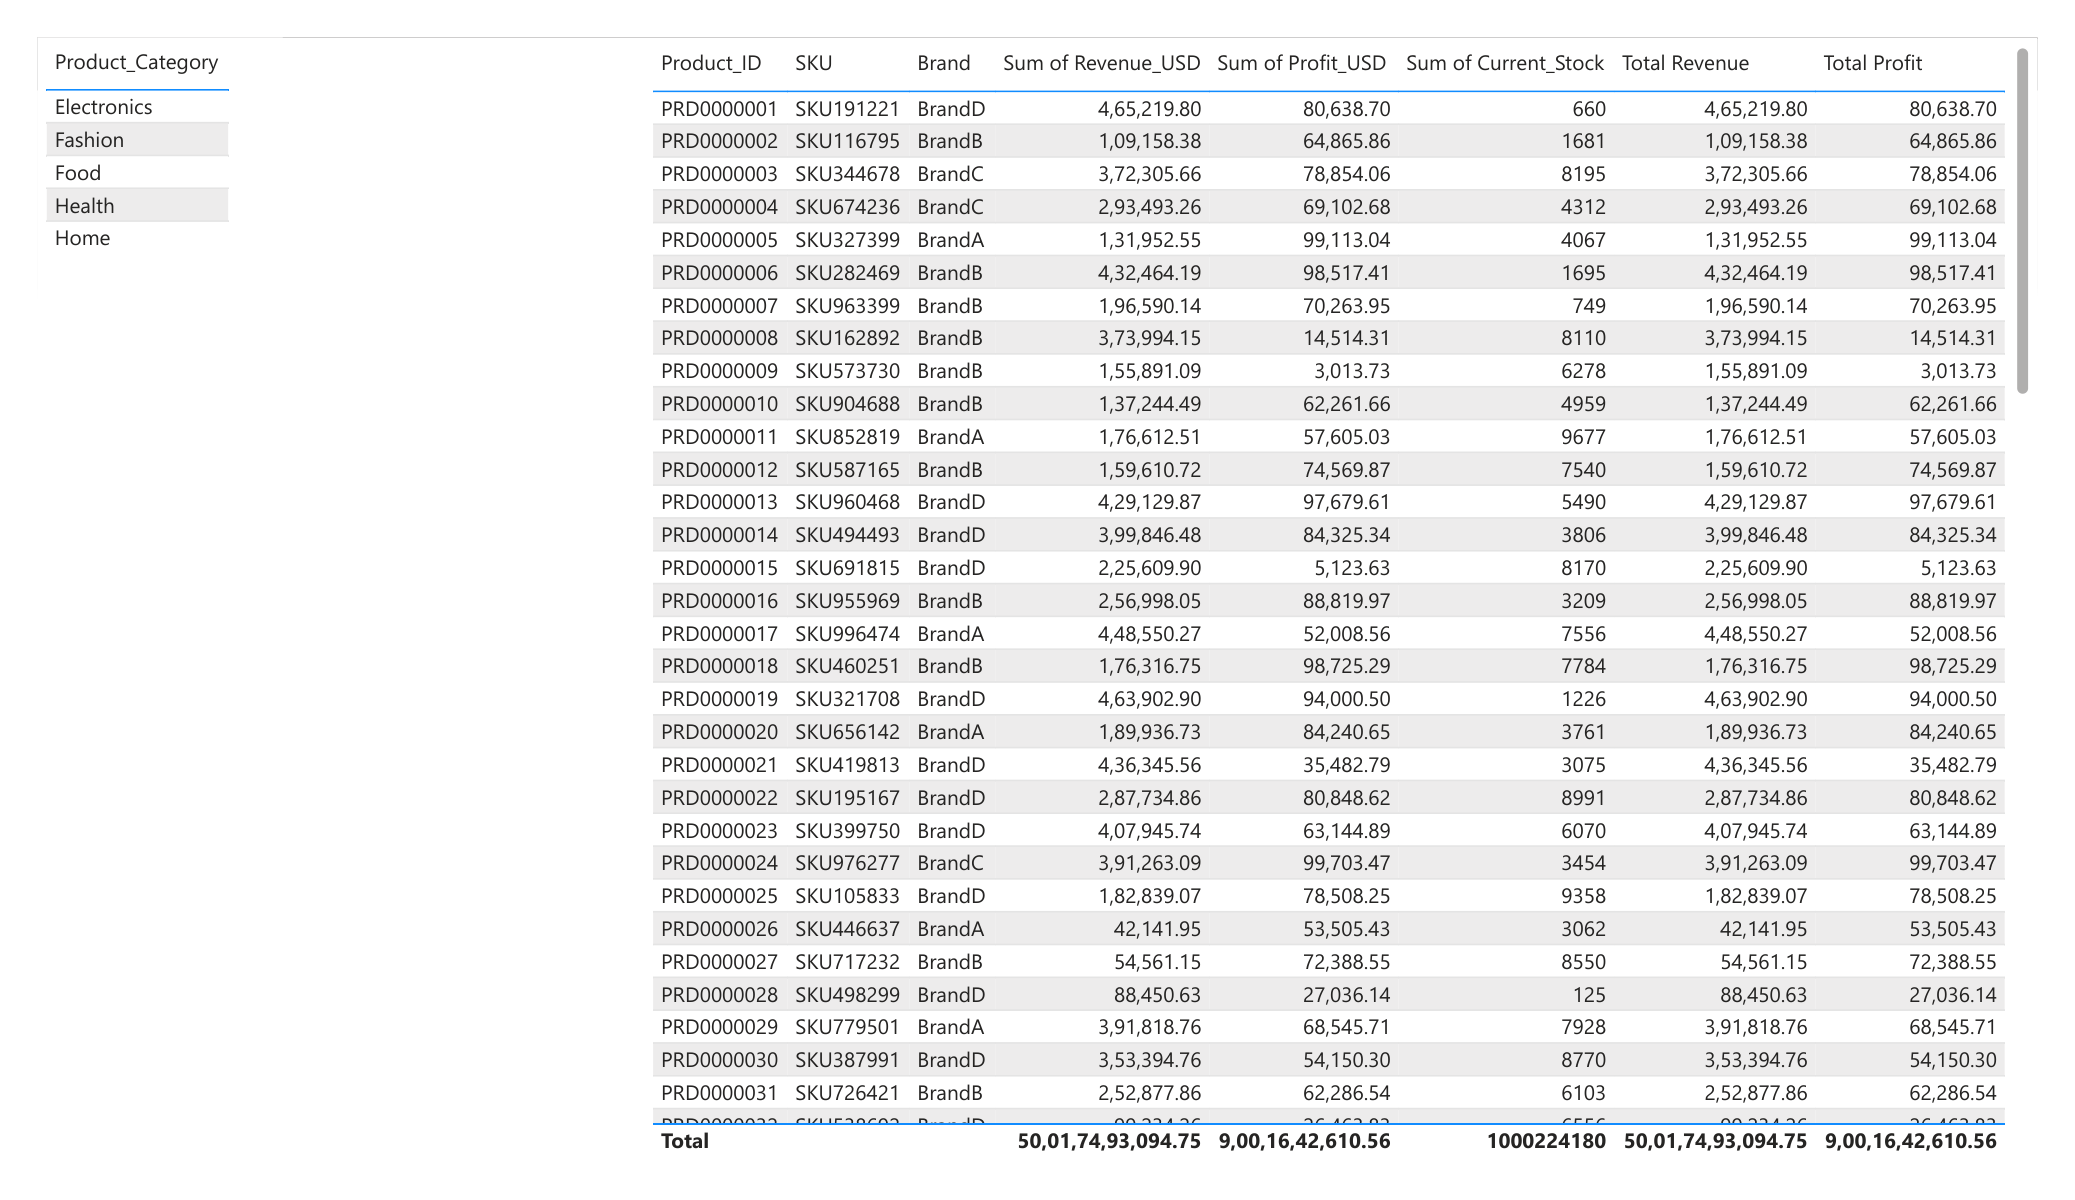

This screenshot's page, from the dashboard's own definition file:
{"tool":"powerbi","page":{"name":"Category details","canvas":[1280,720],"ordinal":4},"visuals":[{"type":"tableEx","fields":{"Values":["SupplyChain.Product_Category"]},"box":[0,0,157.3,170.9],"z":0},{"type":"tableEx","fields":{"Values":["SupplyChain.Product_ID","SupplyChain.SKU","SupplyChain.Brand","Sum(SupplyChain.Revenue_USD)","Sum(SupplyChain.Profit_USD)","Sum(SupplyChain.Current_Stock)","DateTable.Total Revenue","DateTable.Total Profit"]},"box":[388.4,1.4,891.6,719.3],"z":1}]}

Visuals, with their boxes on the page's 1280x720 design canvas (x1, y1, x2, y2). These are canvas units, not pixel positions in the 2075x1200 screenshot, which may show the page scaled, cropped or inside an application window:
tableEx - SupplyChain.Product_Category: 0/0/157/171
tableEx - SupplyChain.Product_ID x SupplyChain.SKU: 388/1/1280/721
